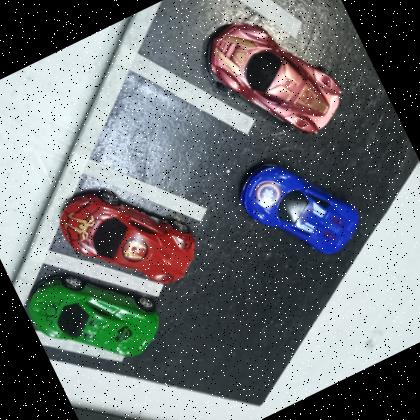Car: (48, 156, 210, 318), (194, 0, 355, 162), (16, 240, 174, 392), (227, 134, 370, 282)
